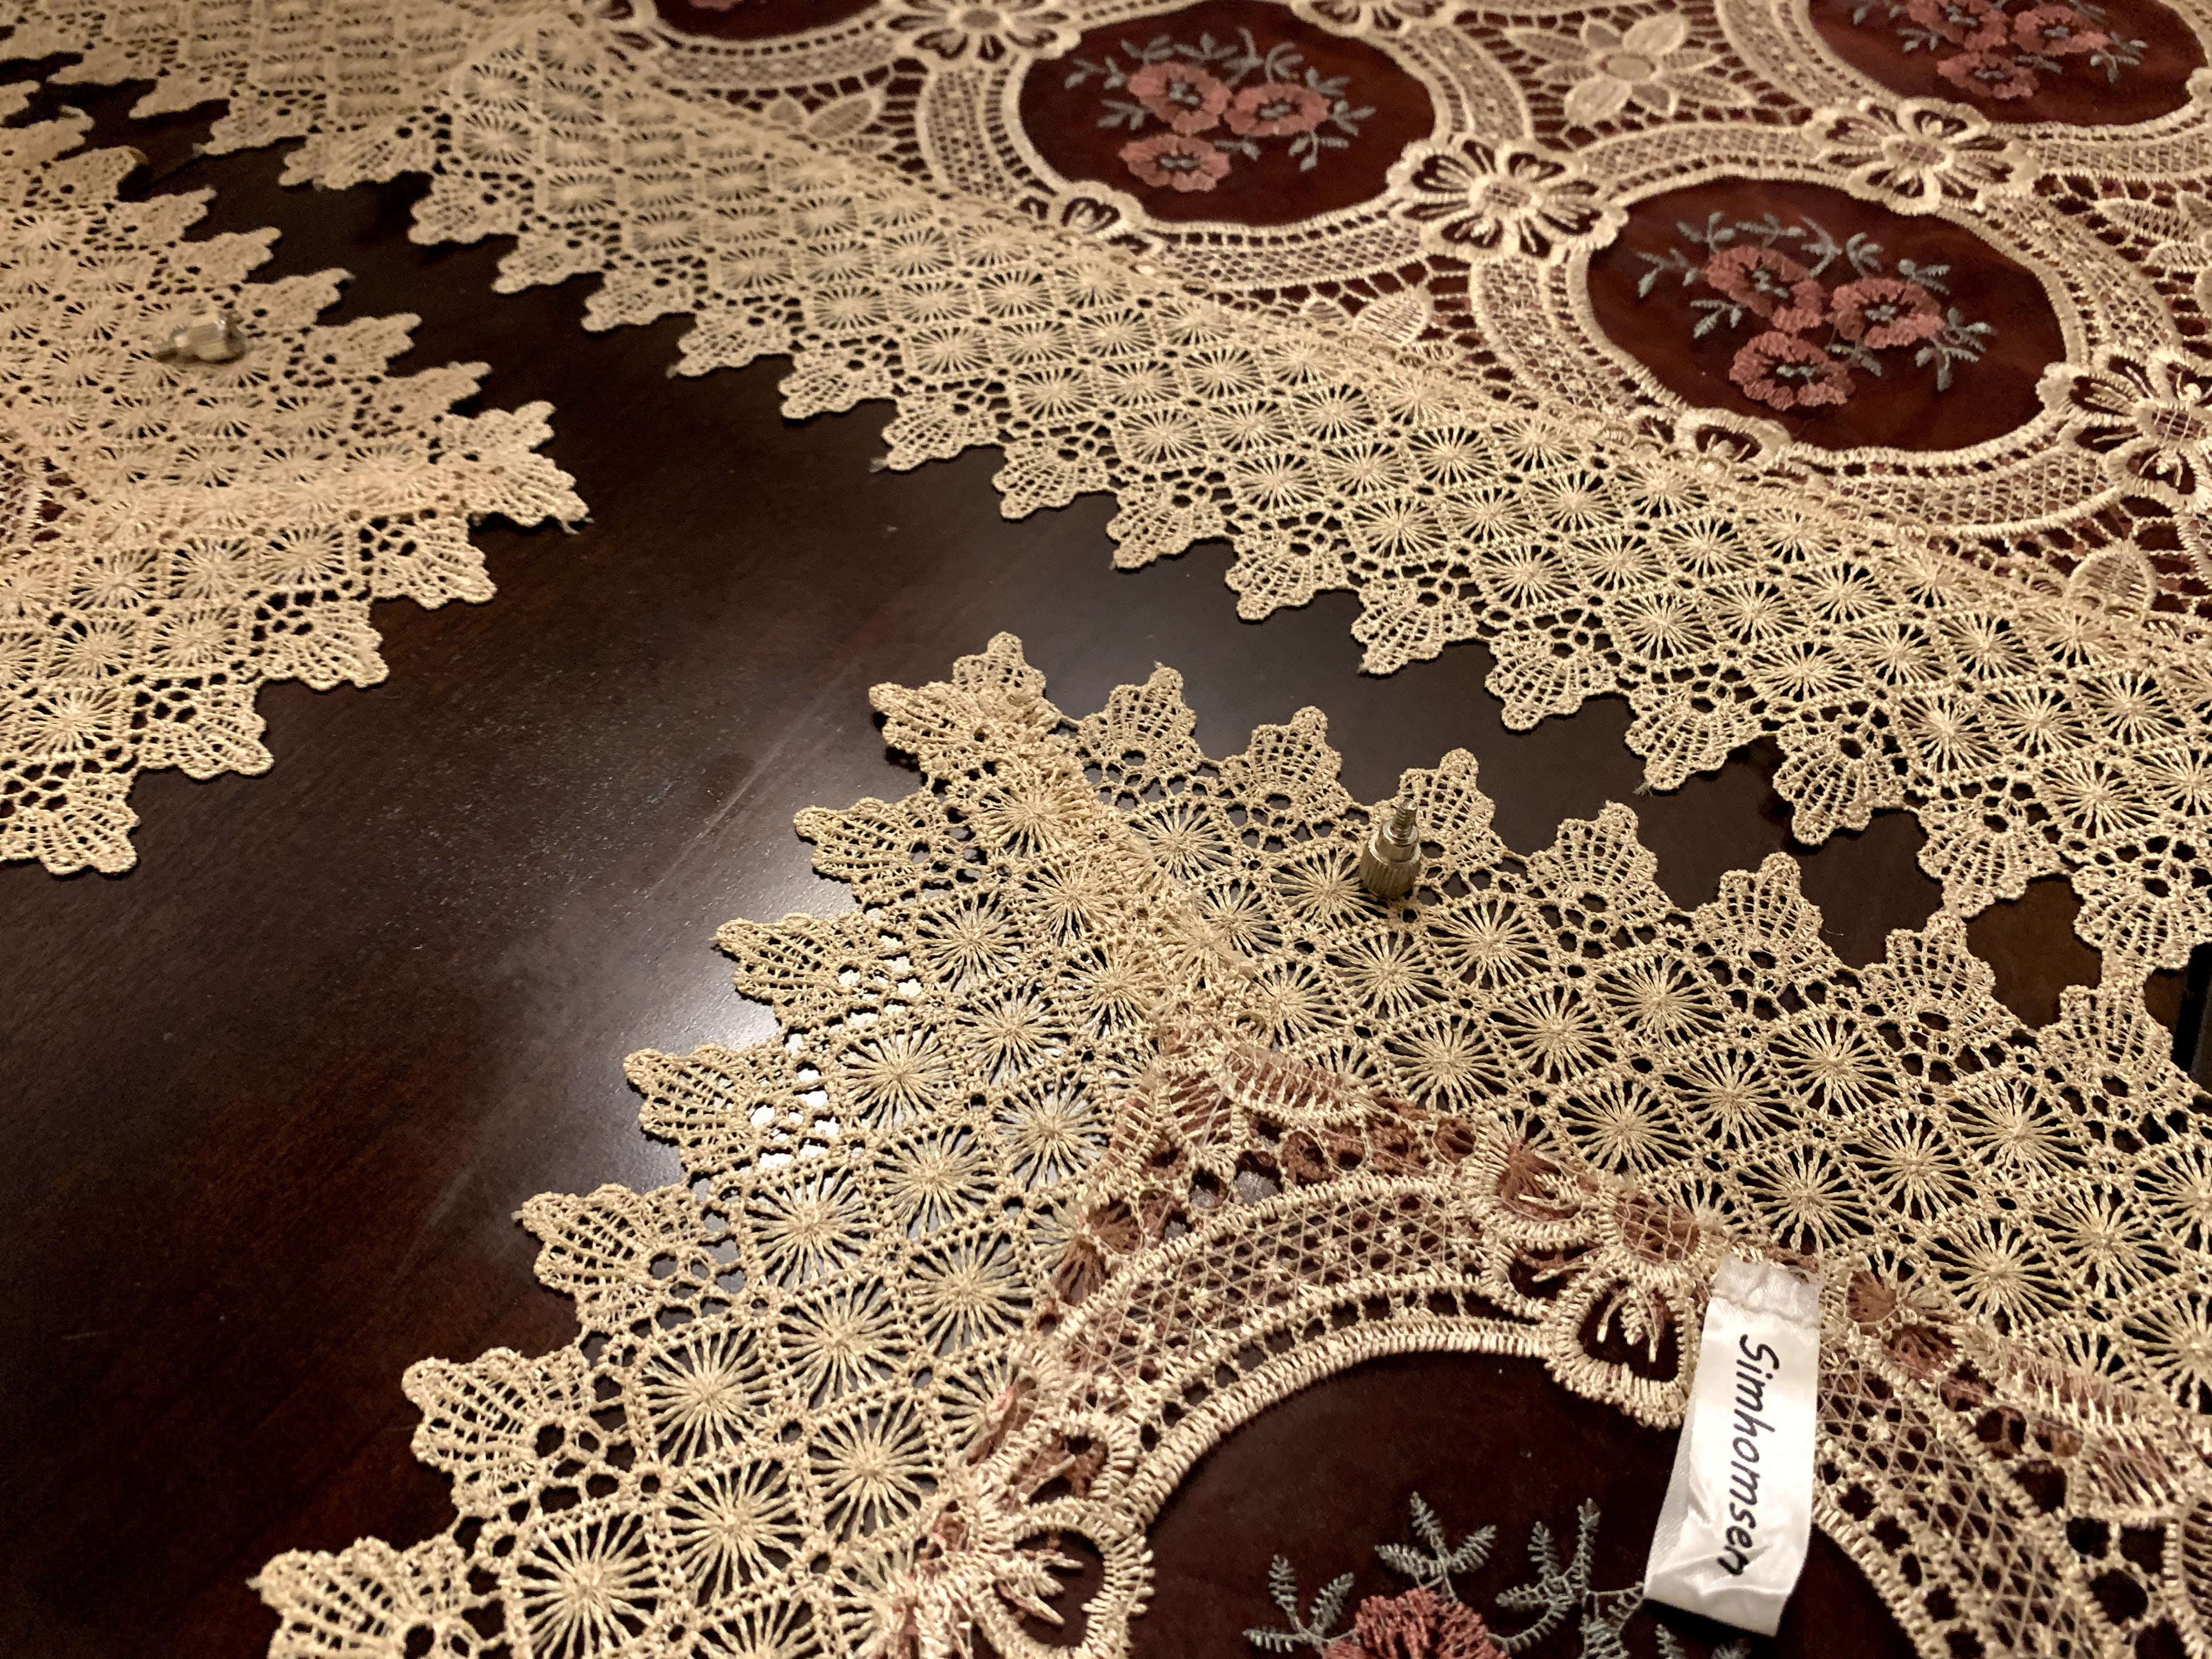Space-debris-small: (1331, 784, 1440, 910), (139, 303, 253, 376)
